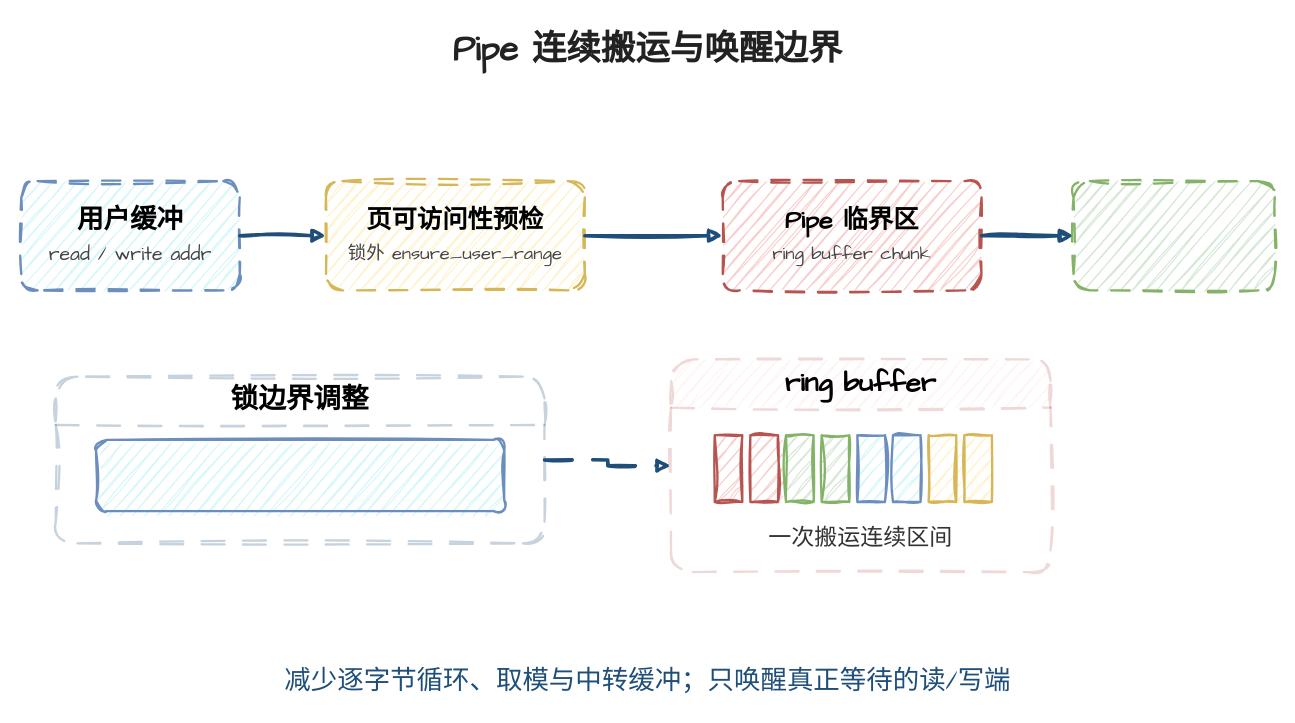
Image size: 1295x723. Some labels were removed from this diagram. The centre of each missing label's shape, as x and y in pixels:
唤醒状态 poll / epoll: (1173,235)
缺页 / COW / 文件回源 锁外完成，再进入 pipe 临界区: (299,475)
